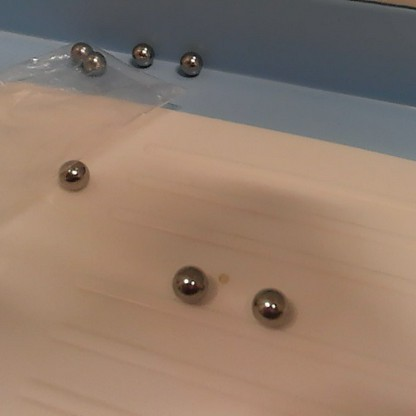ironball: (246, 282, 296, 332), (169, 259, 211, 305), (124, 37, 156, 72), (55, 159, 90, 191), (79, 50, 109, 80), (174, 48, 204, 77), (66, 38, 93, 58)
